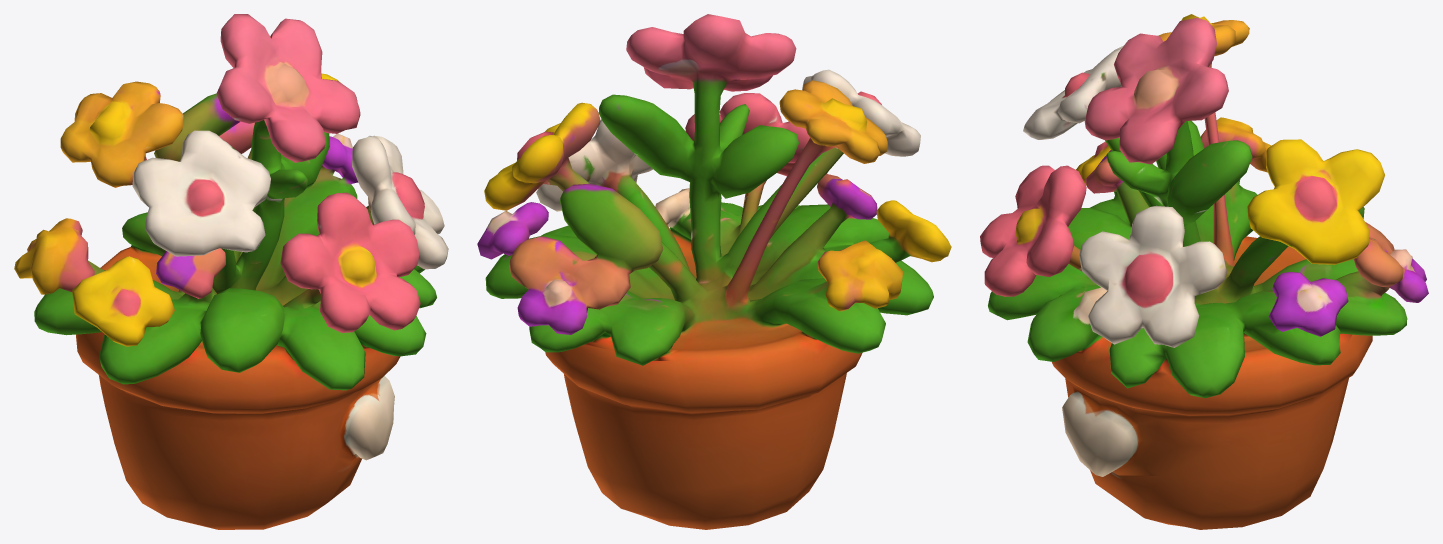
3 views of the same model, side by side, from view 1: azimuth 30°, elevation 25°; view 2: azimuth 150°, elevation 25°; view 3: azimuth 270°, elevation 25° (orthographic). The views are drawn at different scales.
Visible parts, largest first — view 1: flower-pot; view 2: flower-pot; view 3: flower-pot.
Boxes of the visible parts, <box> form: flower-pot: <box>14,14,448,529</box>; flower-pot: <box>477,14,951,529</box>; flower-pot: <box>980,14,1428,529</box>.
Size of the model in its own units: 0.5914 by 0.7 by 0.6031.
Materials: 1 (1 with a texture image).
